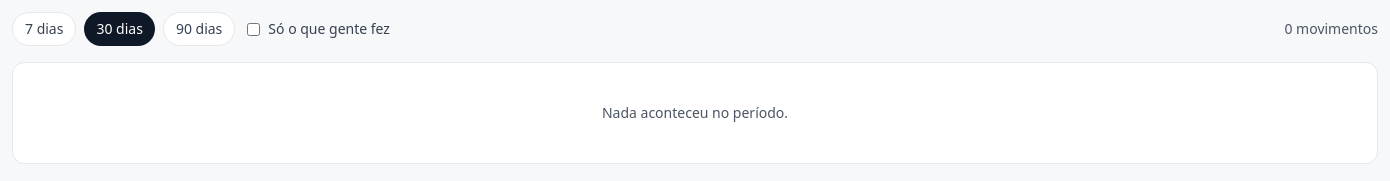
Test: histórico › vazio com filtro explica que foi o filtro
This screenshot has width=1390, height=181.
Expected: the text "Nada aconteceu no período." is shown, [12,62,1378,164]
Step 1. Click the checkbox labelled "Só o que gente fez" → (254, 29), box [247,22,260,36]
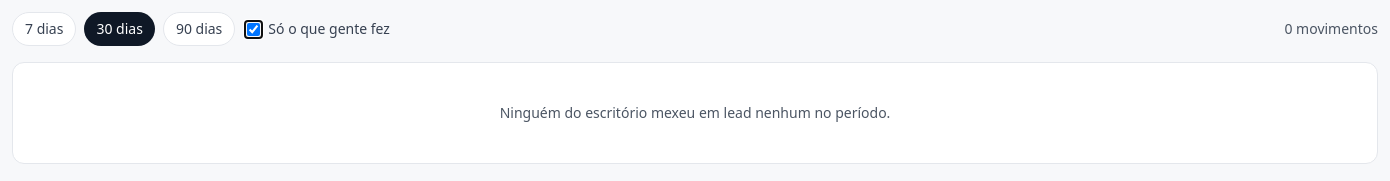
Result: the text "Ninguém do escritório mexeu em lead nenhum no período." is shown at [12,62,1378,164]
